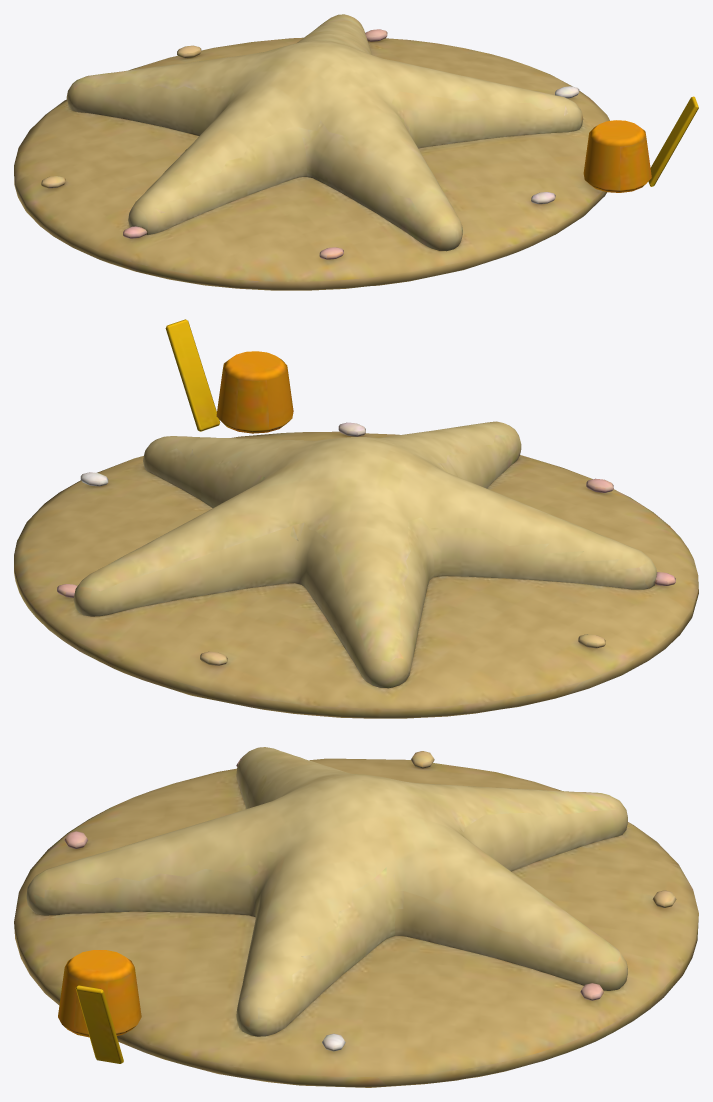
Rendered from sand_starfish.glb.
3 renders of one model, top to bottom at view 1: azimuth 30°, elevation 25°; view 2: azimuth 150°, elevation 25°; view 3: azimuth 270°, elevation 25°, orthographic. The views are drawn at different scales.
Parts seen in each view (by area): view 1: sand_starfish; view 2: sand_starfish; view 3: sand_starfish.
Part boxes in pixels (x1=…): sand_starfish: x1=14, y1=14, x2=698, y2=290; sand_starfish: x1=14, y1=319, x2=698, y2=718; sand_starfish: x1=14, y1=747, x2=698, y2=1087.
Bounding box in the file's own units: 0.8882 × 0.228 × 0.8004.
Materials: 1 (1 with a texture image).
